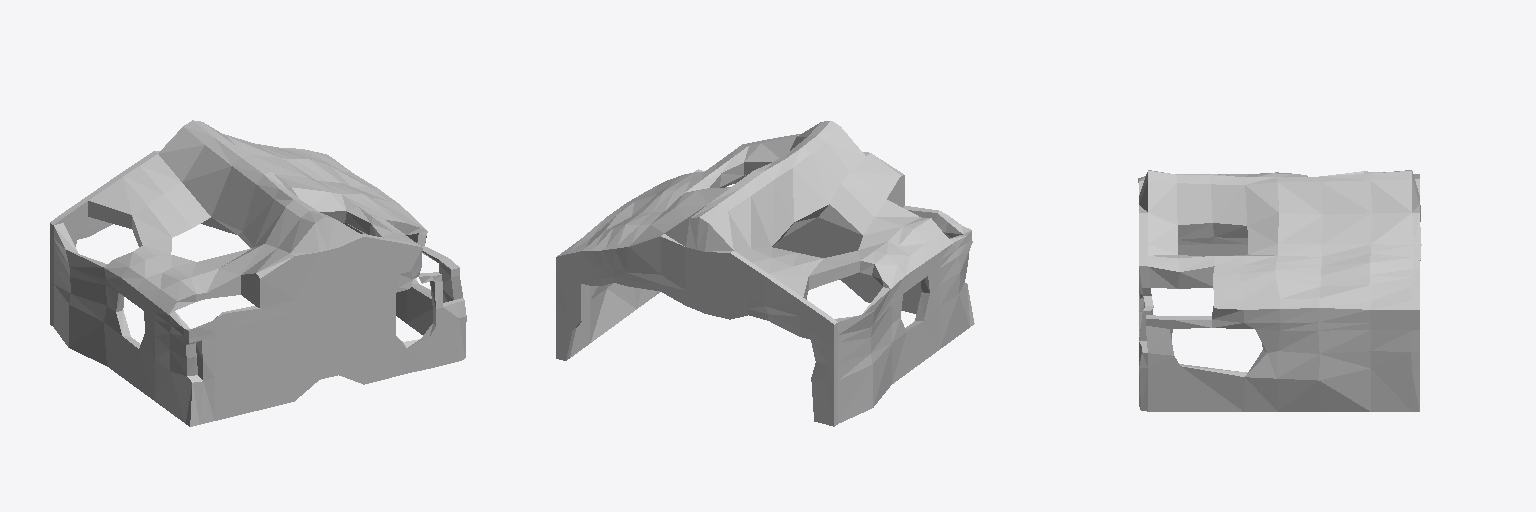
Rendered from Hangar.obj.
3 renders of one model, left to right at view 1: azimuth 30°, elevation 25°; view 2: azimuth 150°, elevation 25°; view 3: azimuth 270°, elevation 25°, orthographic.
Visible parts, largest first — view 1: pCube4; view 2: pCube4; view 3: pCube4.
Boxes of the visible parts, x1,y1,x2,y2 form: pCube4: [50, 120, 466, 426]; pCube4: [556, 121, 974, 426]; pCube4: [1138, 170, 1421, 411].
Bounding box in the file's own units: 8.1 × 4.51 × 6.68.